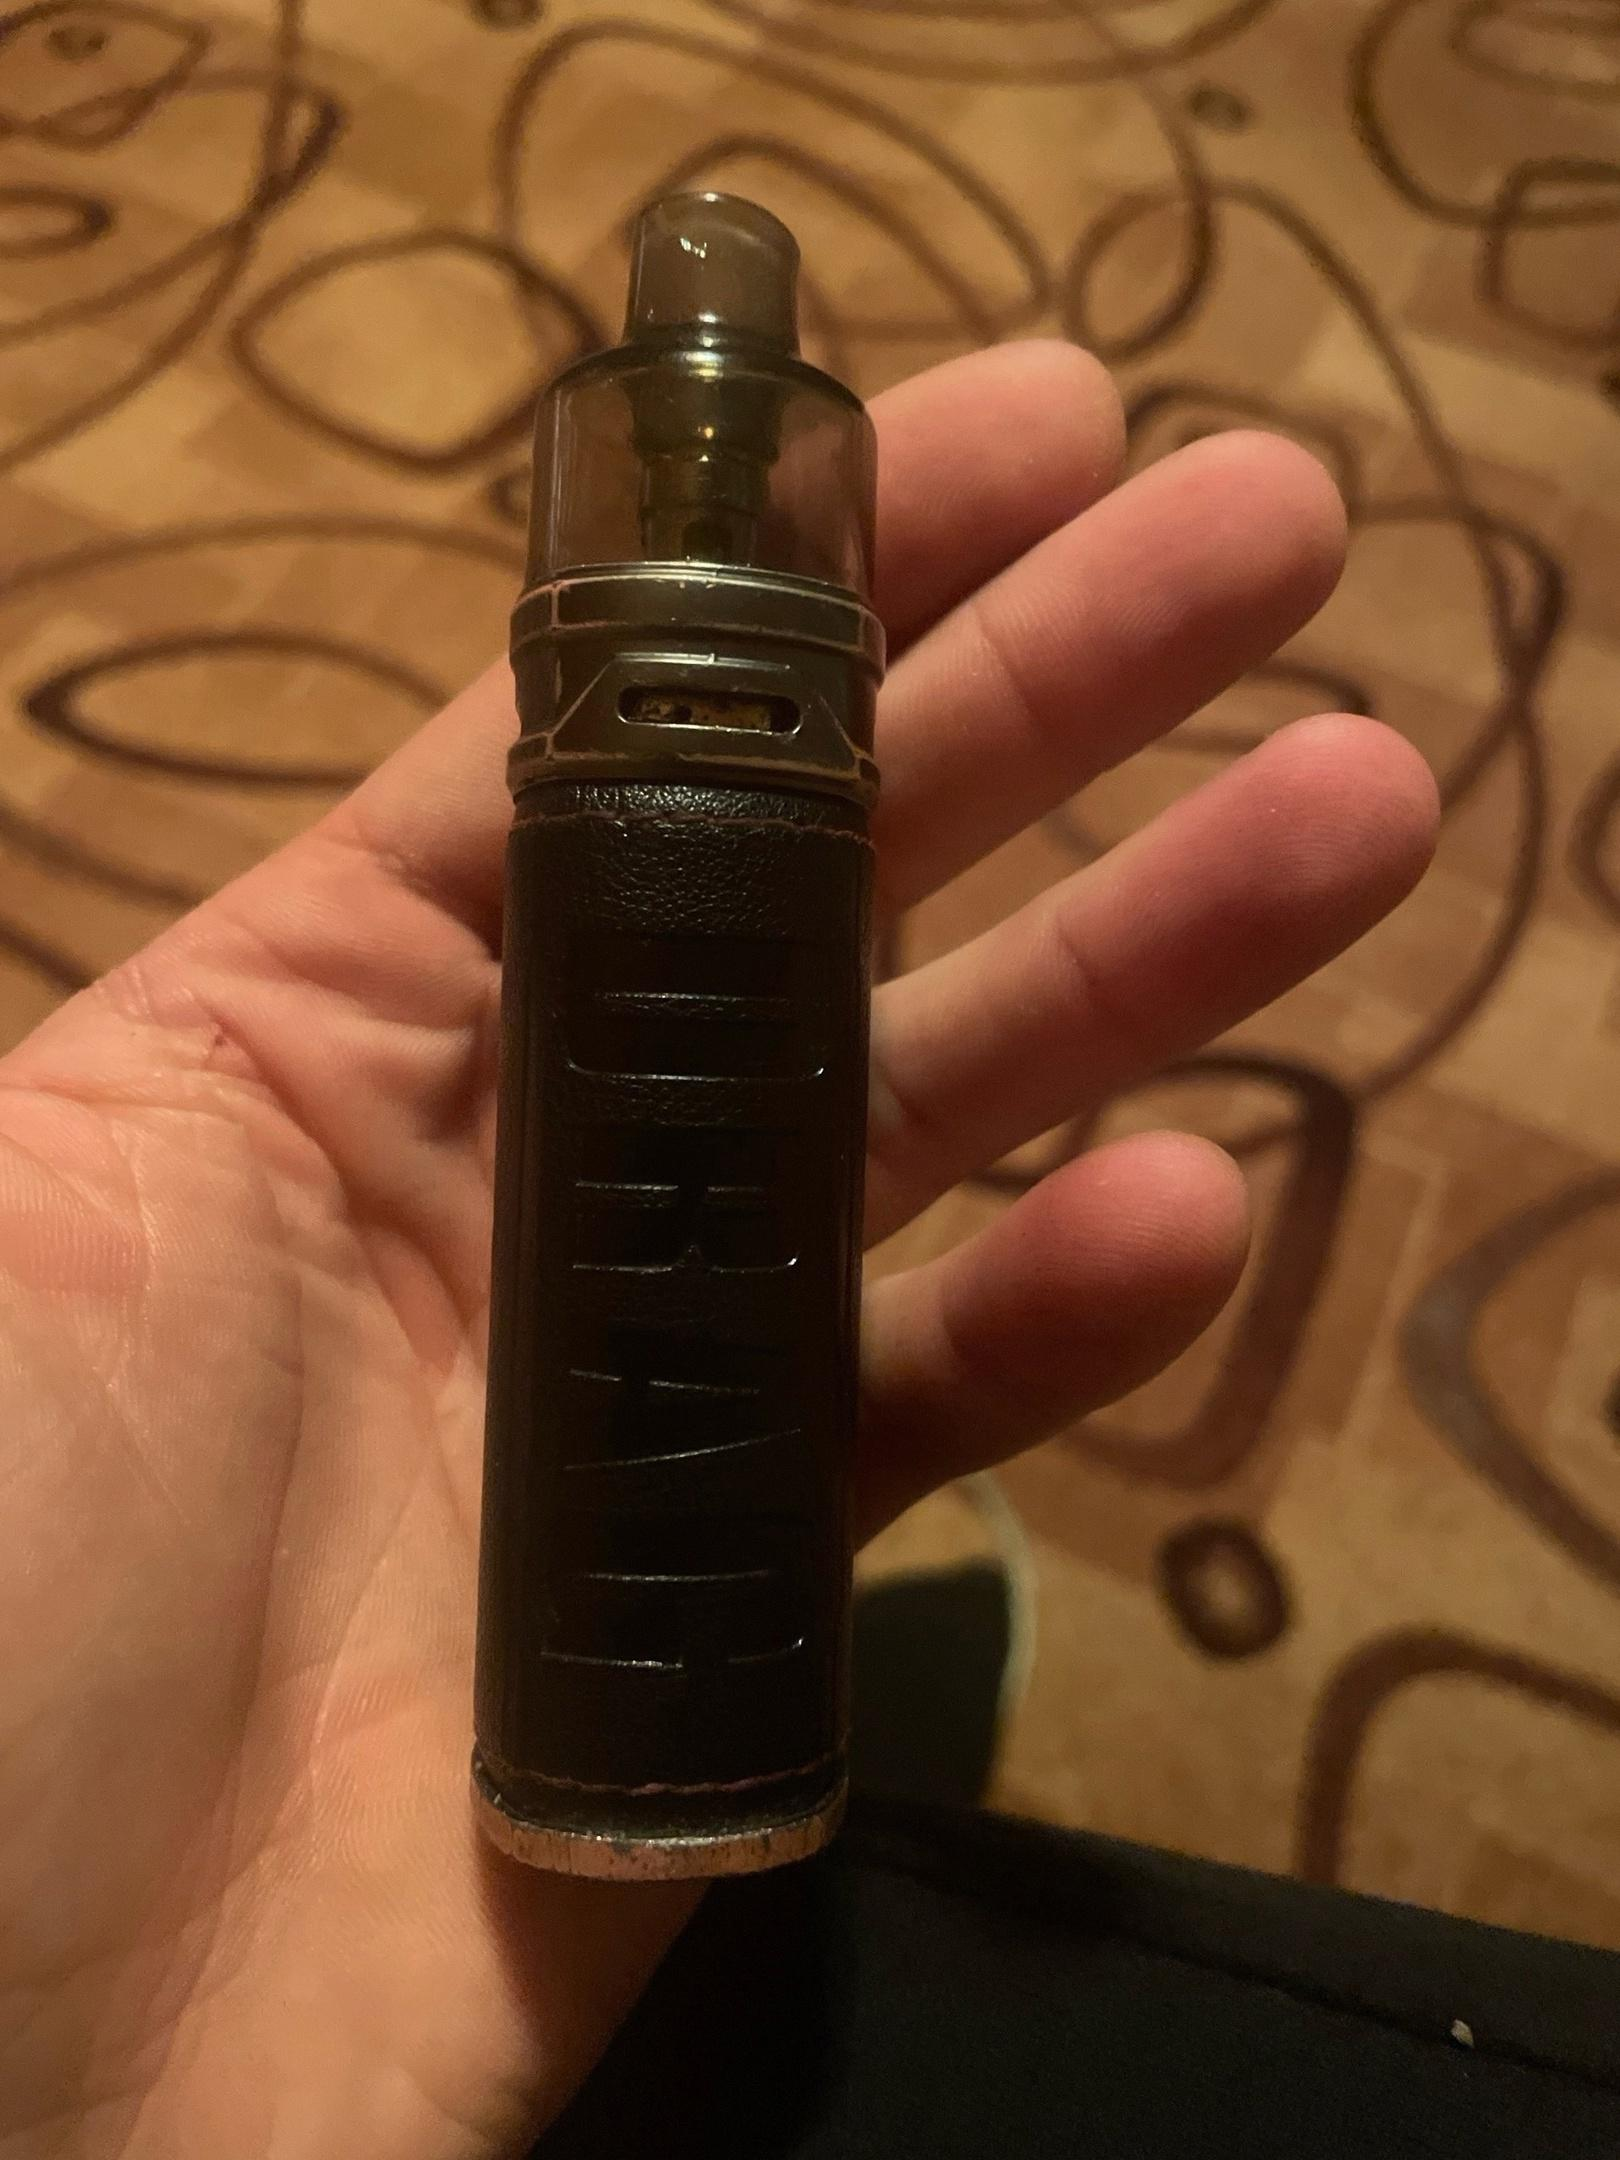Vape: (476, 190, 883, 1873)
